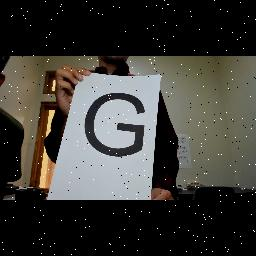g: (80, 89, 152, 159)
